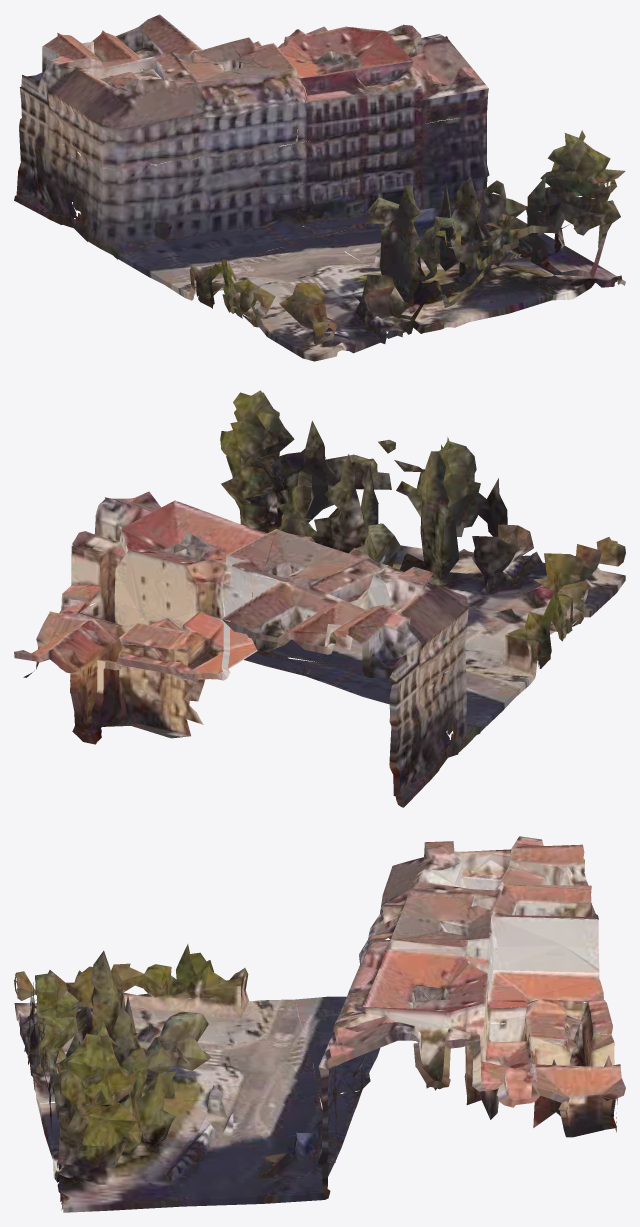
3 renders of one model, top to bottom at view 1: azimuth 30°, elevation 25°; view 2: azimuth 150°, elevation 25°; view 3: azimuth 270°, elevation 25°, orthographic. The views are drawn at different scales.
Visible parts, largest first — view 1: Mesh_0; view 2: Mesh_0; view 3: Mesh_0.
Part boxes in pixels (x1,y1,x2,y2): Mesh_0: (14,14,625,361); Mesh_0: (14,390,625,807); Mesh_0: (14,836,625,1212).
Size of the model in its own units: 66.58 by 27.83 by 82.57.
2 materials, 2 textured.
